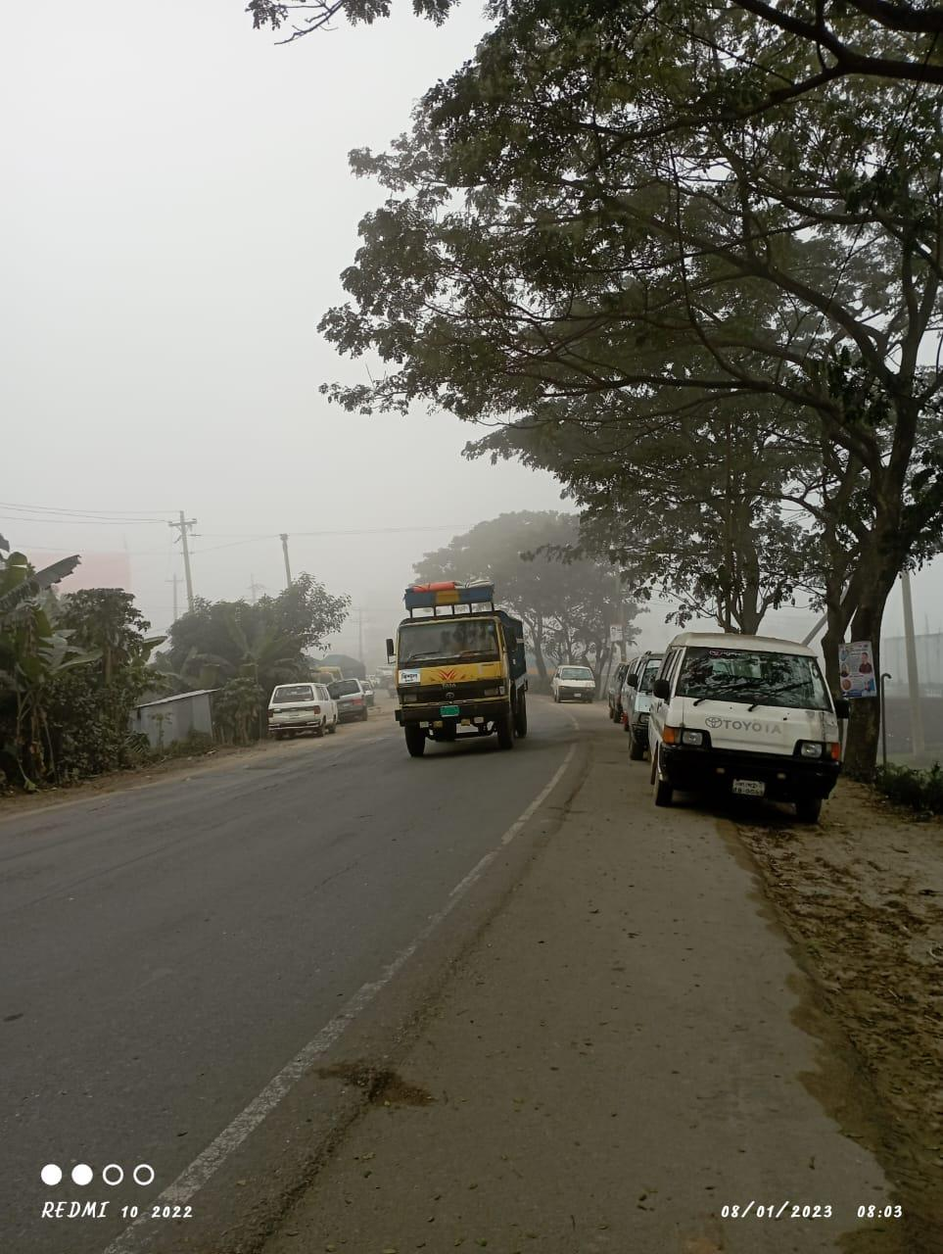Car: (638, 618, 858, 832), (253, 677, 353, 742), (552, 659, 605, 712)
Truck: (386, 575, 539, 756)
